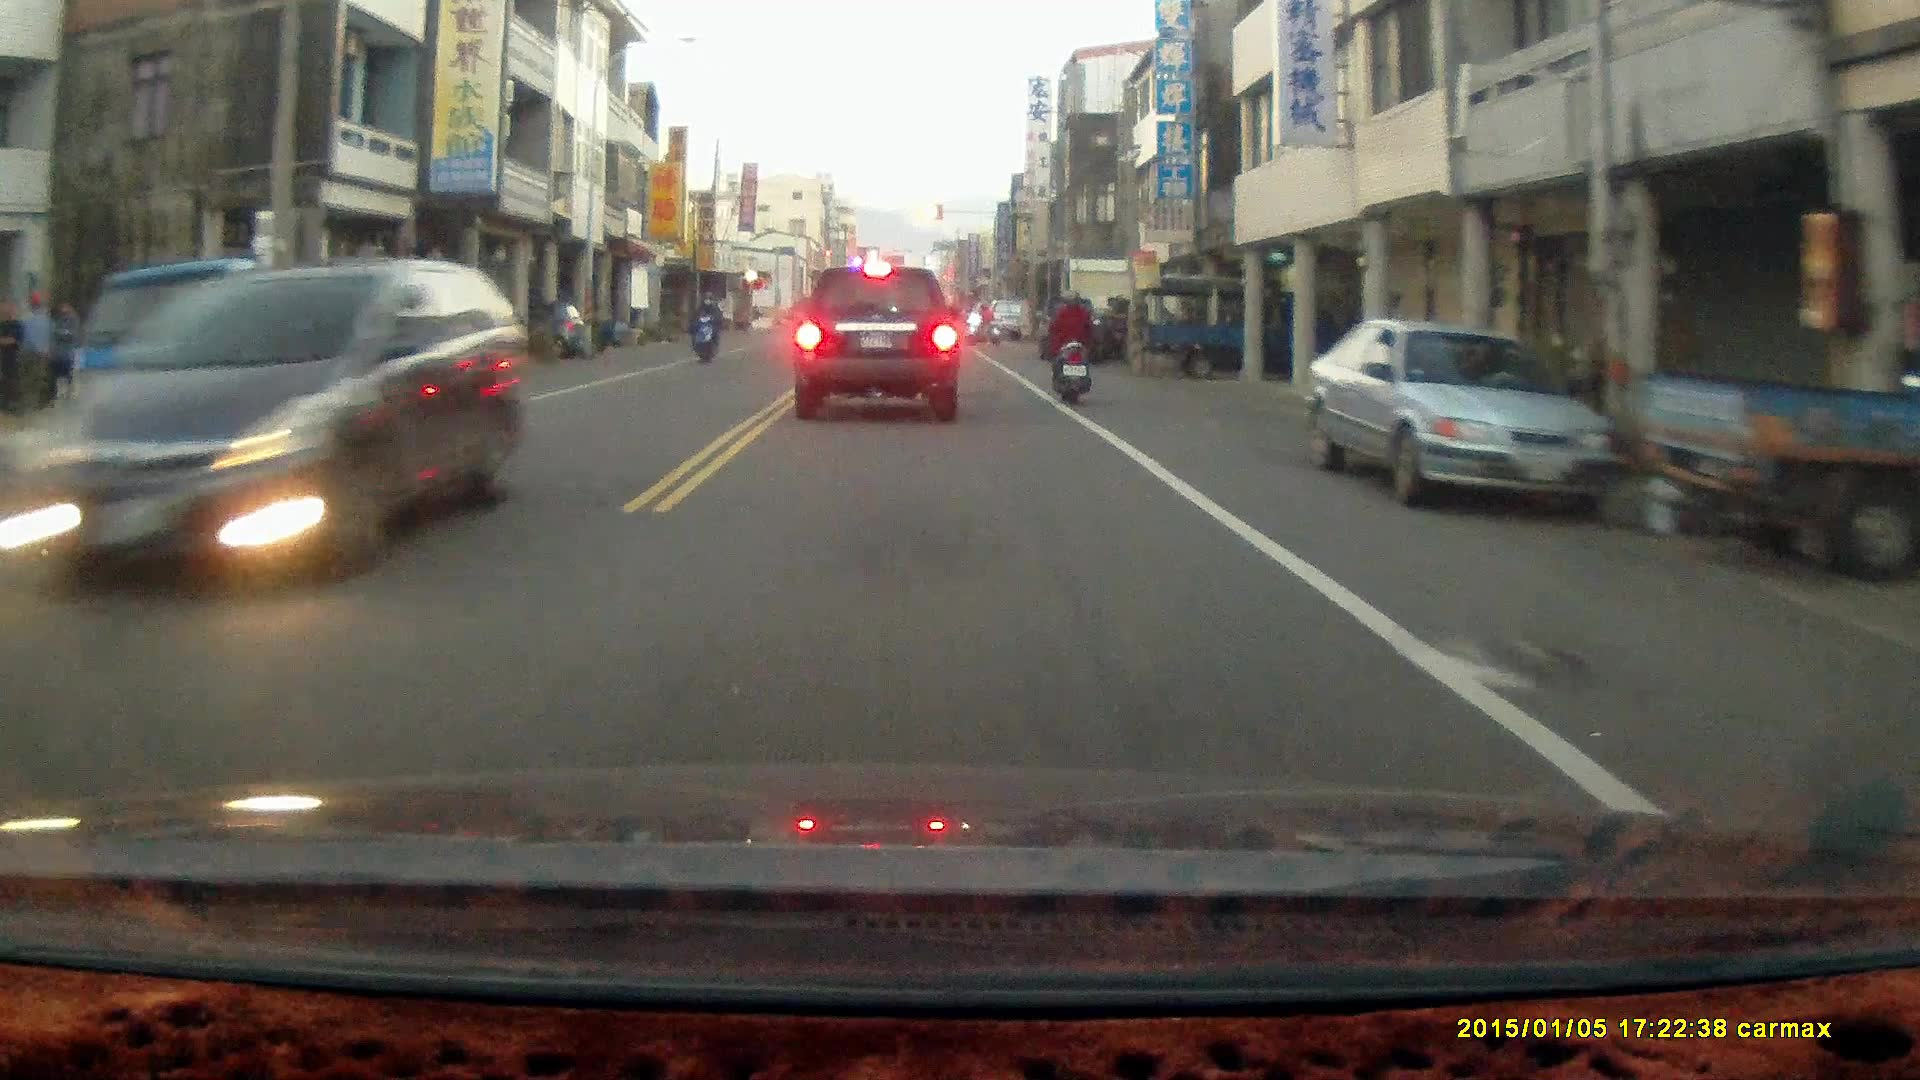pedestrian: (47, 296, 83, 417), (17, 287, 51, 411), (0, 300, 24, 412)
rider: (1046, 287, 1095, 406), (688, 290, 723, 362), (964, 300, 1001, 346)
vehicle: (52, 255, 512, 592), (1632, 275, 1920, 585), (1305, 315, 1627, 521), (793, 261, 963, 427), (1139, 269, 1357, 375)
